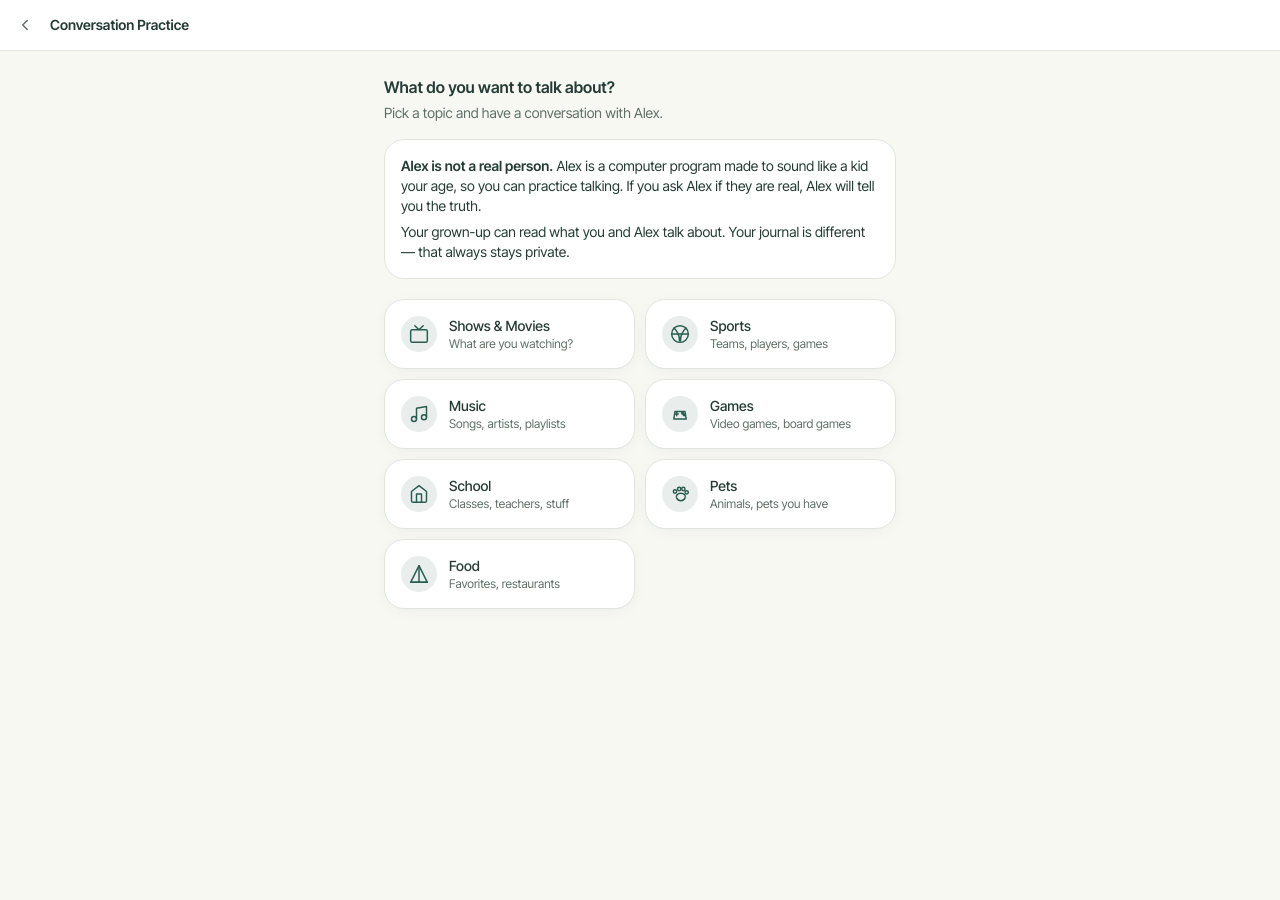
Test case: starts the Shows & Movies topic using its ID
What coordinates should you click on to do the following:
click the button "Shows & Movies What are you watching?"
I would click on:
 (510, 334)
Its box is [384,299,635,369].
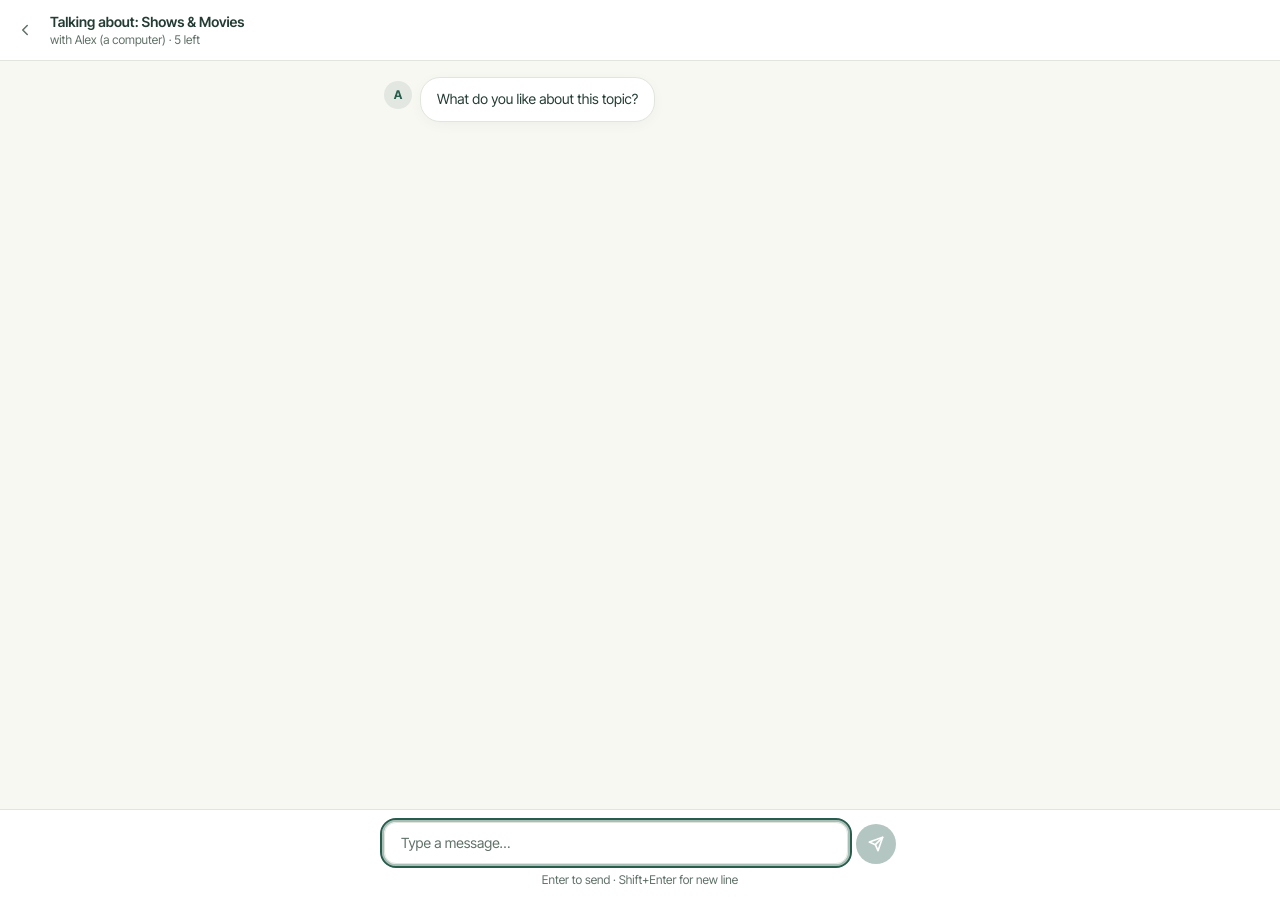
Check: the text "What do you like about this topic?" is shown, box [420,77,655,122]
